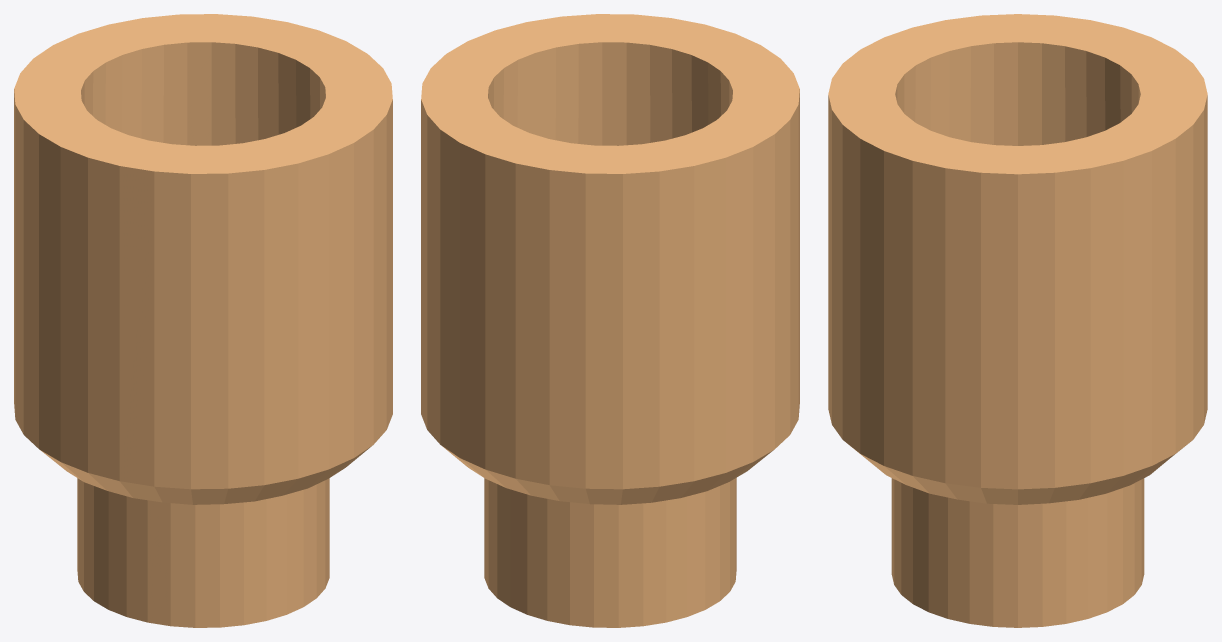
File: cup.gltf
The picture shows the model from 3 angles, left to right: view 1: azimuth 30°, elevation 25°; view 2: azimuth 150°, elevation 25°; view 3: azimuth 270°, elevation 25°; orthographic projection.
Parts seen in each view (by area): view 1: Cylinder.001; view 2: Cylinder.001; view 3: Cylinder.001.
Boxes of the visible parts, box(x1,y1,x2,y2) form: Cylinder.001: box(14, 14, 392, 627); Cylinder.001: box(421, 14, 799, 627); Cylinder.001: box(828, 14, 1207, 627).
Bounding box in the file's own units: 0.2013 × 0.2813 × 0.2013.
